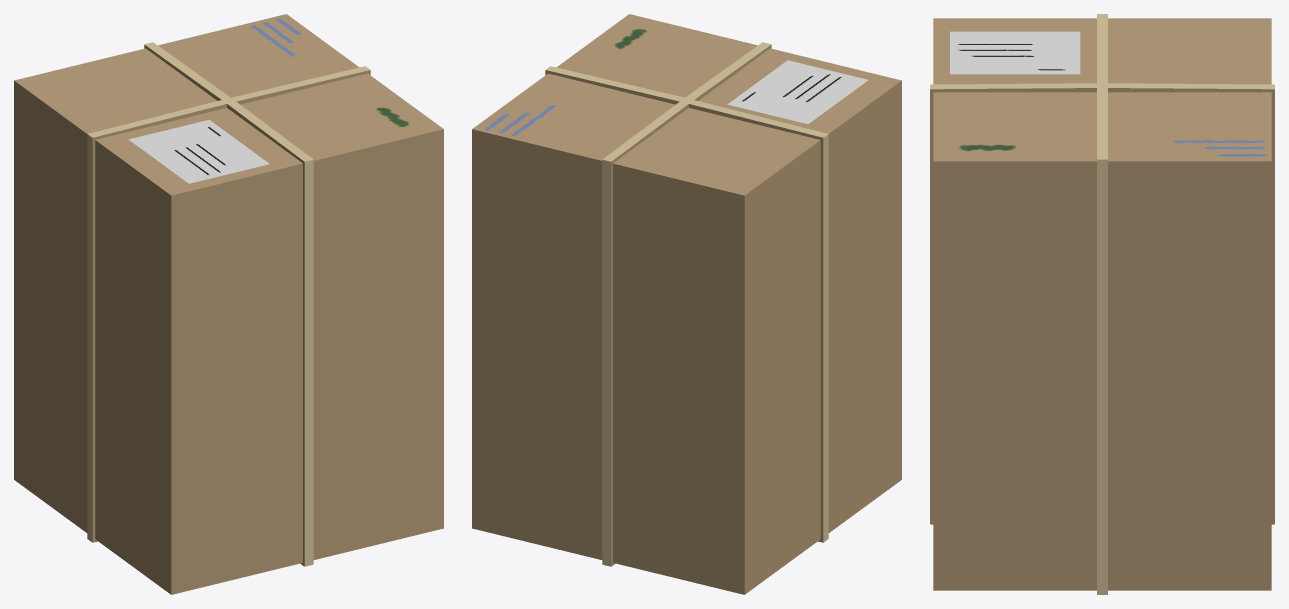
The model's file is cardboard_box4.fbx.
3 views of the same model, side by side, from view 1: azimuth 30°, elevation 25°; view 2: azimuth 150°, elevation 25°; view 3: azimuth 270°, elevation 25° (orthographic). The views are drawn at different scales.
Parts seen in each view (by area): view 1: Cardboard Box; view 2: Cardboard Box; view 3: Cardboard Box.
Part boxes in pixels (x1,y1,x2,y2): Cardboard Box: [14, 14, 443, 594]; Cardboard Box: [472, 14, 901, 594]; Cardboard Box: [930, 14, 1274, 594].
Bounding box in the file's own units: 102 × 143 × 102.
Materials: 1 (1 with a texture image).
